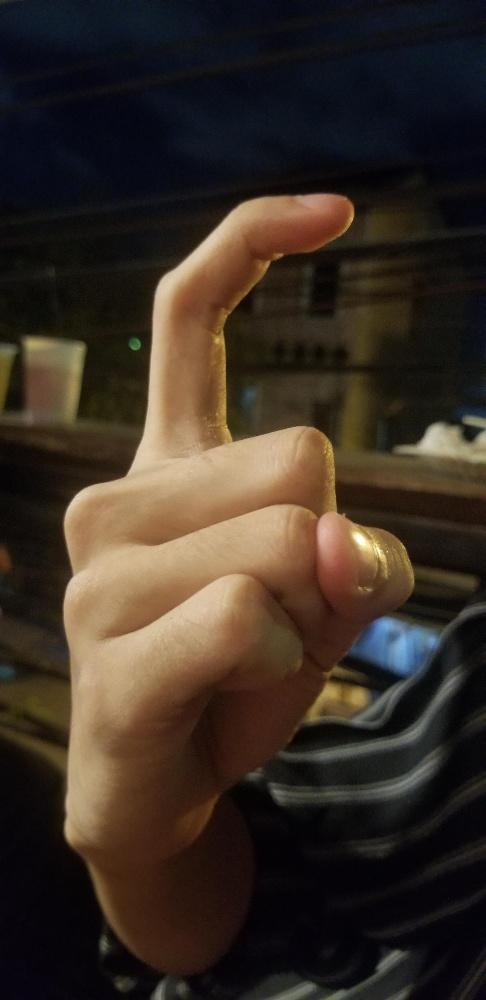x: (58, 188, 417, 861)
